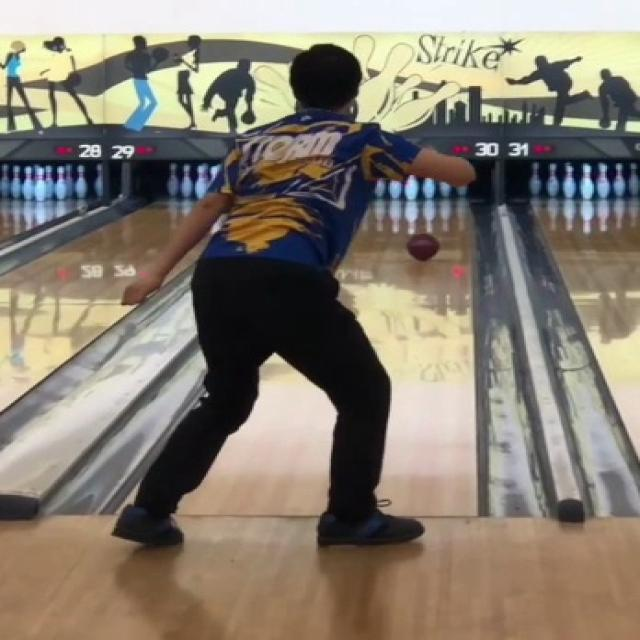alley: (337, 201, 474, 515), (180, 356, 333, 513)
balls: (406, 232, 438, 260)
bottle: (375, 177, 463, 199)
